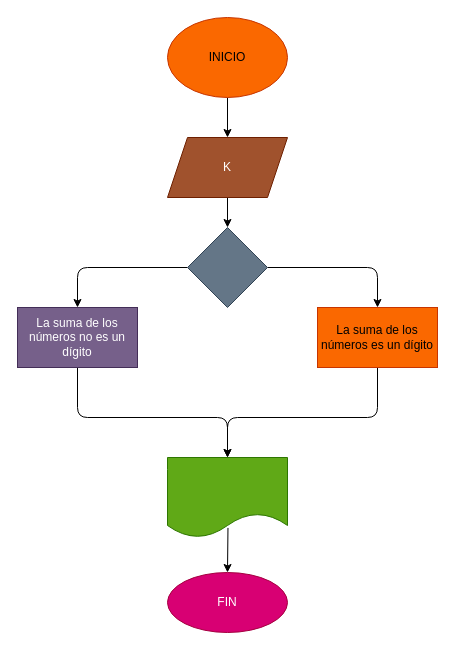
Image size: 455x650. Some labels were removed from this diagram. Each missing label, with the centre of its shape:
"0 < = K<10" goes at [227,267].
"K1 = K % 10 K2 = (K %100) // 10 K3 = K1 +K2" goes at [227,497].
